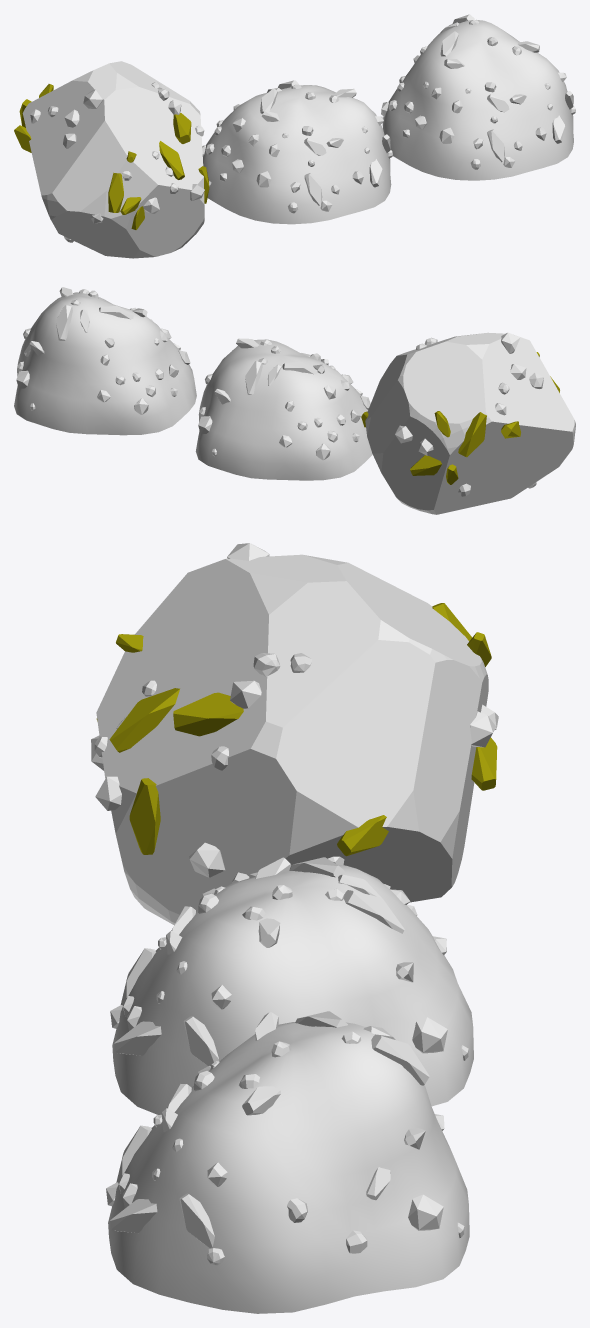
The model's file is Sketchfab_2022_10_16_18_20_11.fbx.
3 views of the same model, one above another, from view 1: azimuth 30°, elevation 25°; view 2: azimuth 150°, elevation 25°; view 3: azimuth 270°, elevation 25° (orthographic). The views are drawn at different scales.
Visible parts, largest first — view 1: Gold_ore(complited), Iron_ore(complited), Silver_ore(complited); view 2: Gold_ore(complited), Iron_ore(complited), Silver_ore(complited); view 3: Gold_ore(complited), Iron_ore(complited), Silver_ore(complited).
Boxes of the visible parts, x1,y1,x2,y2 form: Gold_ore(complited): (14, 61, 211, 258); Iron_ore(complited): (381, 14, 575, 180); Silver_ore(complited): (202, 80, 392, 224); Gold_ore(complited): (361, 332, 575, 514); Iron_ore(complited): (14, 287, 196, 435); Silver_ore(complited): (195, 338, 372, 480); Gold_ore(complited): (91, 543, 498, 924); Iron_ore(complited): (106, 1011, 469, 1313); Silver_ore(complited): (110, 857, 473, 1114).
Size of the model in its own units: 589 by 163 by 194.
